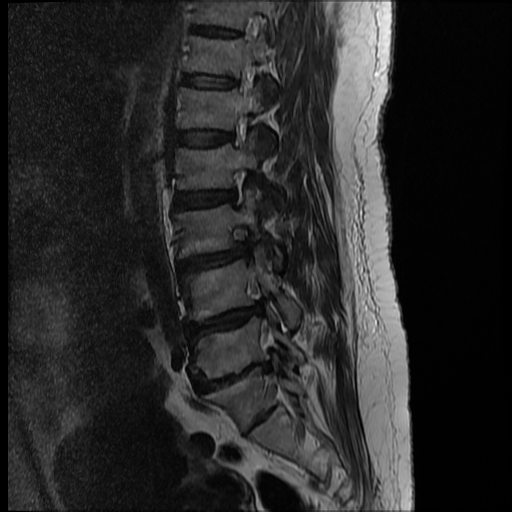RFS0: (216, 163, 260, 213), (220, 104, 259, 157)
RFS3: (216, 217, 260, 272)
